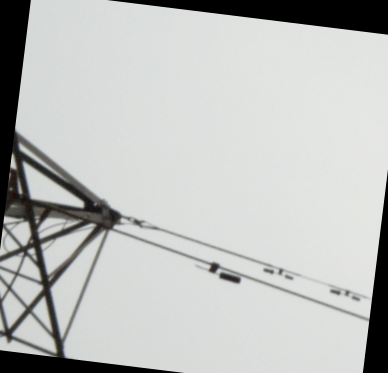damper: (260, 263, 295, 280), (329, 286, 361, 302)
damper_defect: (191, 259, 242, 284)
